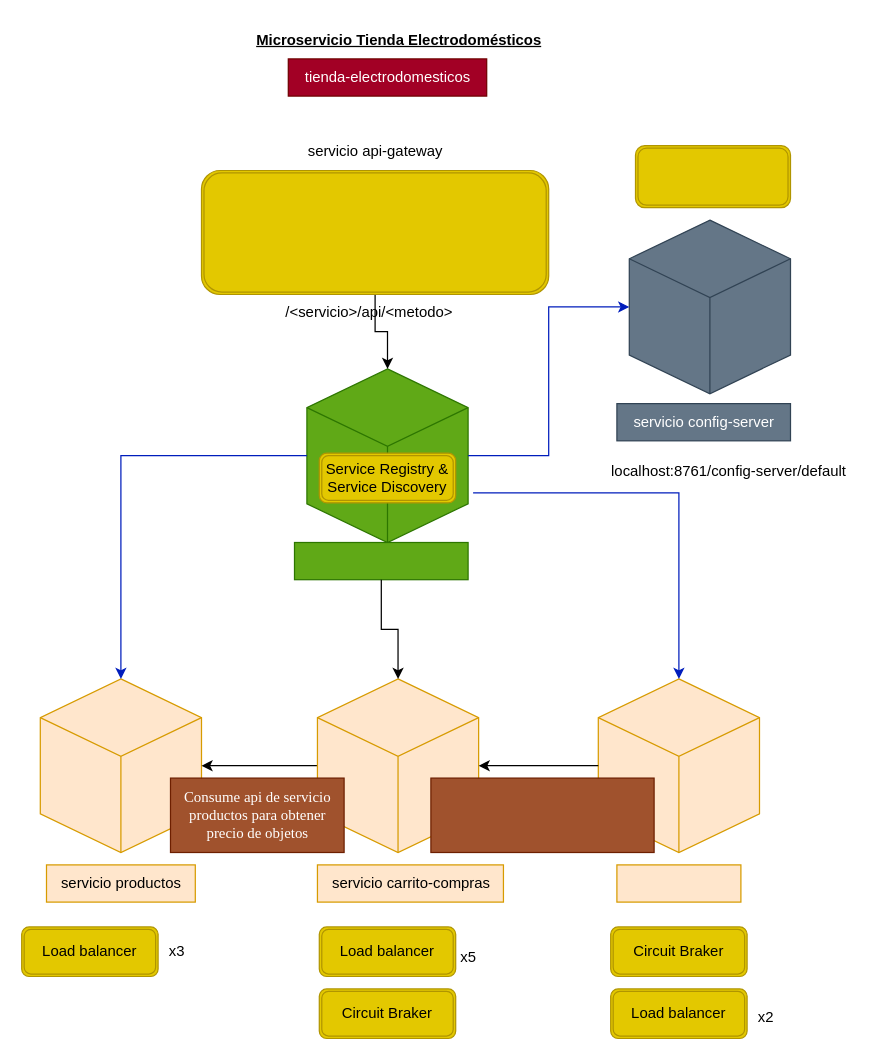
This 880x1060 diagram has some shape labels left out. The shapes that lost their labels are listed below. From the top down, each one's centre as x and y in pixels, then its label:
At (712,176): "Configuration Server / Central Server".
At (374,231): "API GATEWAY".
At (380,560): "servicio eureka-server".
At (542,814): "Consume api de carrito-compras para obtener precio total y articulos comprados".
At (678,883): "servicio ventas".
